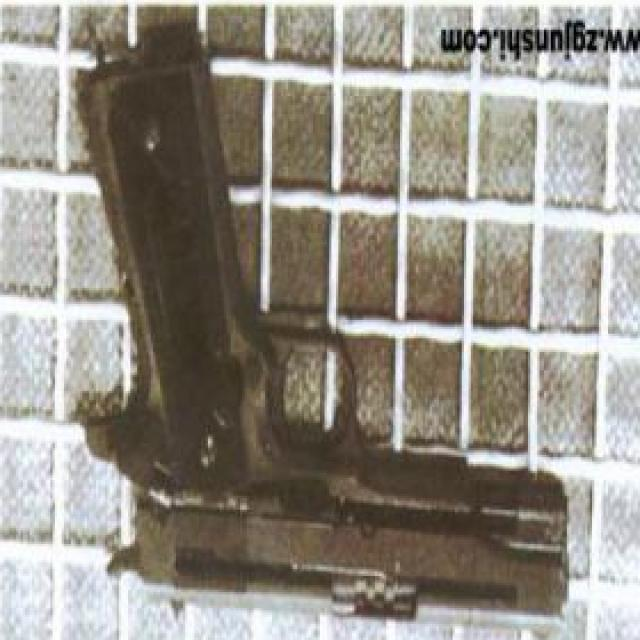pistol: (76, 43, 572, 640)
